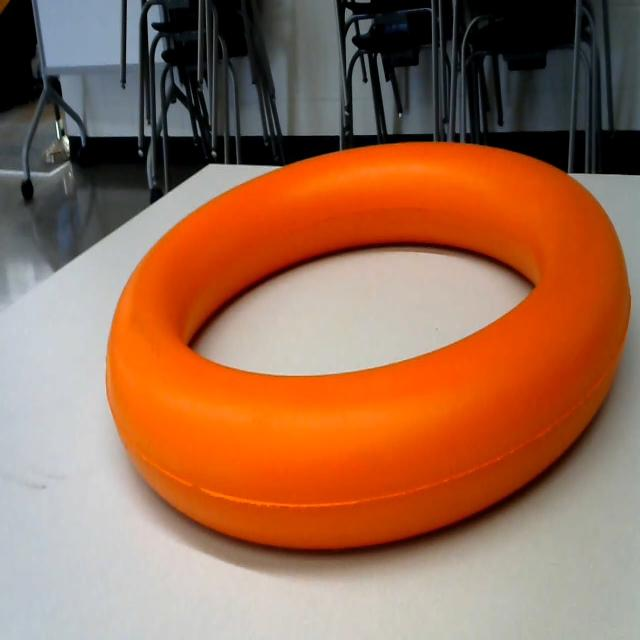note: (96, 121, 636, 576)
